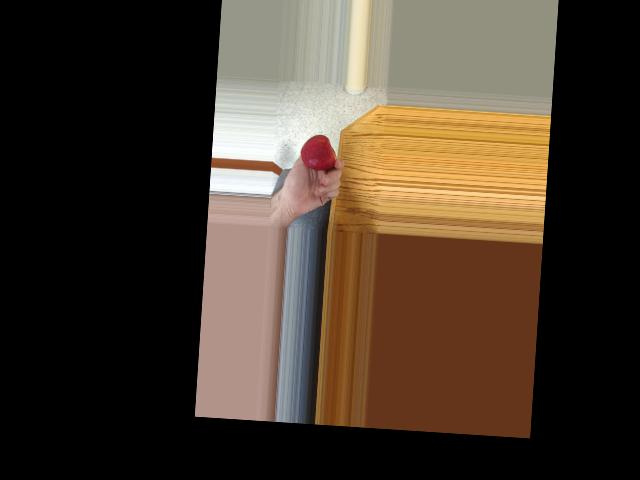apple: (299, 132, 338, 173)
